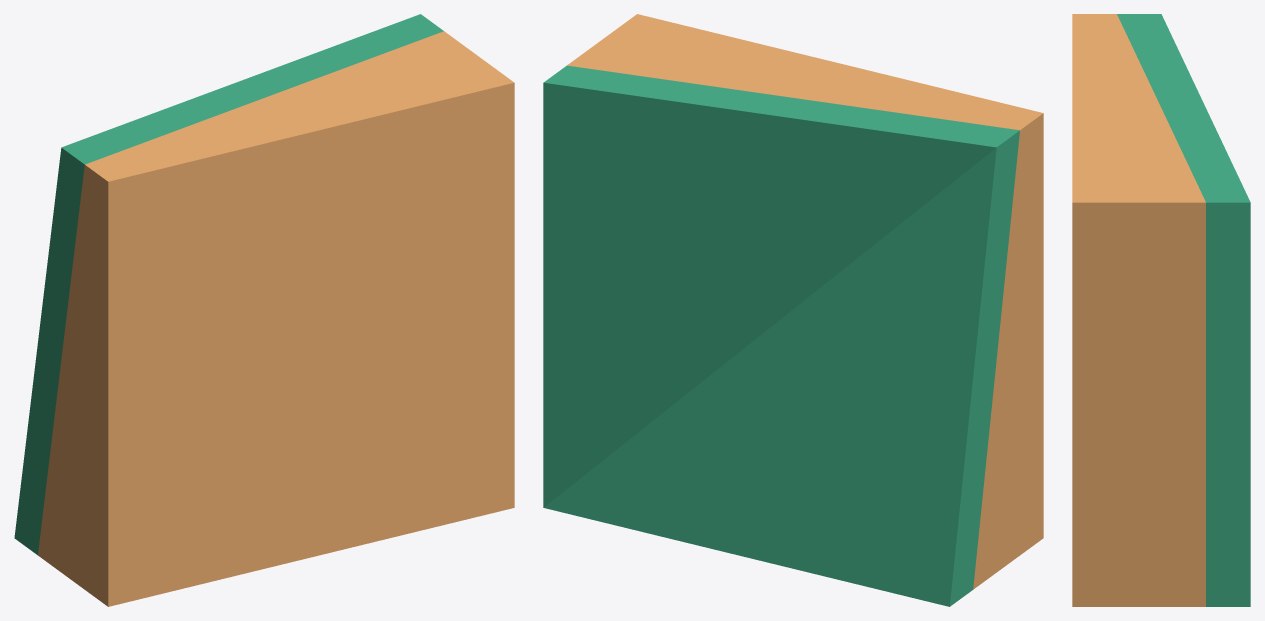
File: tile_cornerInner.002.obj
The picture shows the model from 3 angles, left to right: view 1: azimuth 30°, elevation 25°; view 2: azimuth 150°, elevation 25°; view 3: azimuth 270°, elevation 25°; orthographic projection. The views are drawn at different scales.
Visible parts, largest first — view 1: tile_cornerInner; view 2: tile_cornerInner; view 3: tile_cornerInner.
Part boxes in pixels (x1=…): tile_cornerInner: x1=14, y1=14, x2=514, y2=606; tile_cornerInner: x1=543, y1=14, x2=1043, y2=606; tile_cornerInner: x1=1072, y1=14, x2=1250, y2=606.
Size of the model in its own units: 1 by 1 by 0.4.
